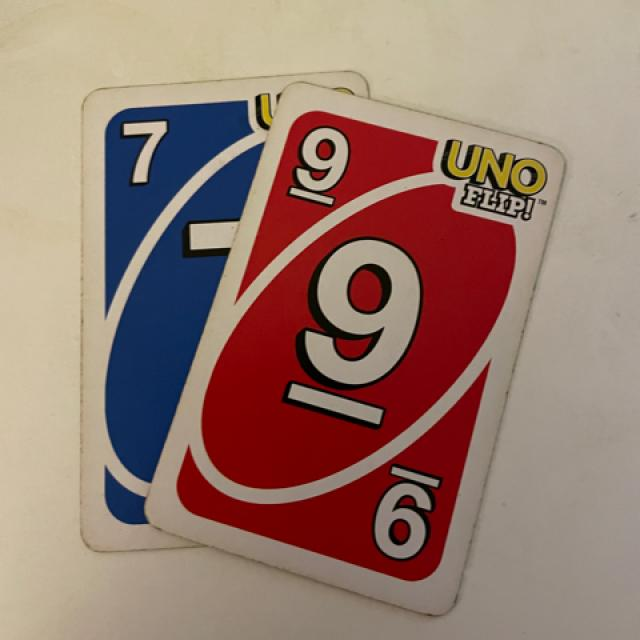lblue-7: (93, 99, 196, 203)
lred-9: (282, 108, 354, 222)
